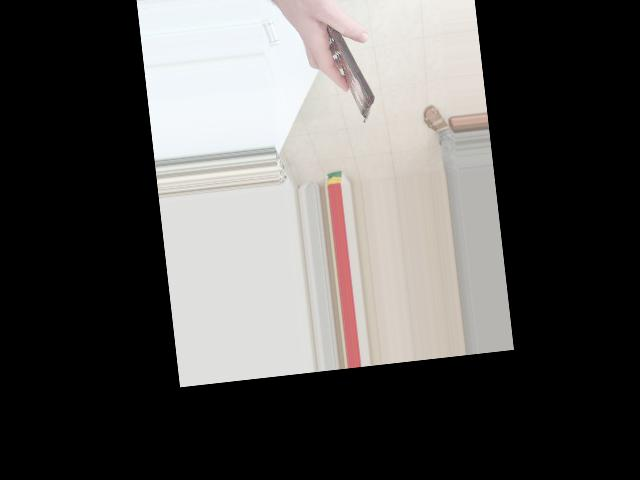chocolate: (314, 9, 384, 125)
